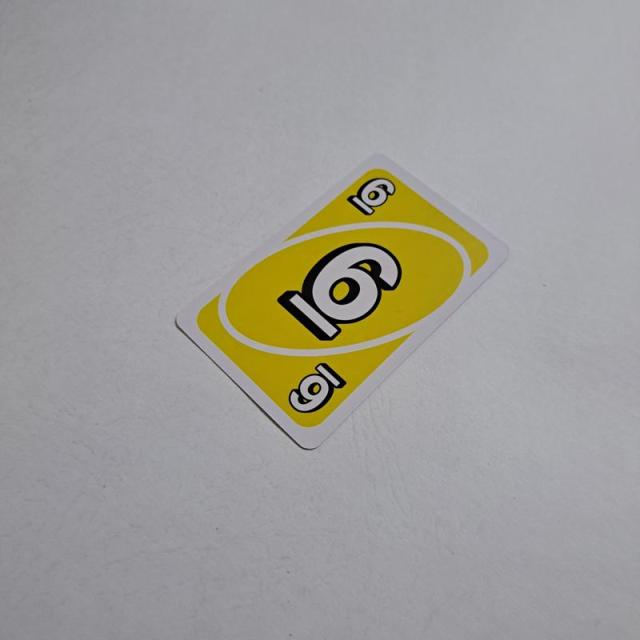Number_6: (343, 175, 403, 218)
Yellow_Card: (192, 162, 496, 429)
